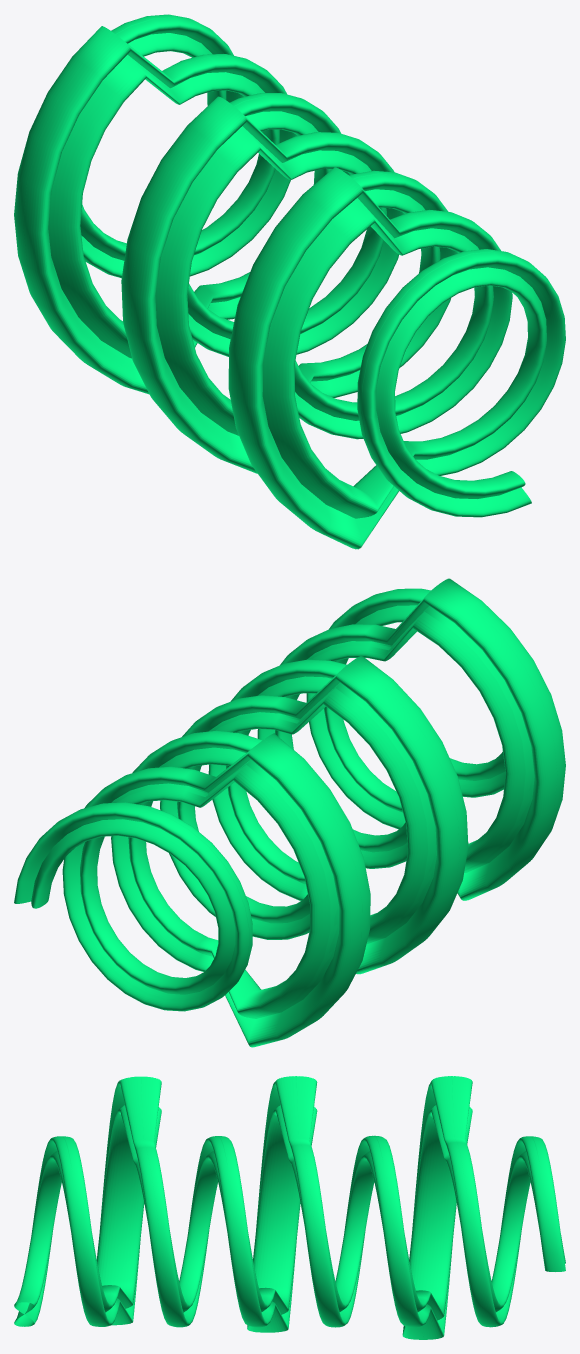
The model's file is dna_expression_system_ar_universal (1).glb.
The picture shows the model from 3 angles, top to bottom: view 1: azimuth 30°, elevation 25°; view 2: azimuth 150°, elevation 25°; view 3: azimuth 270°, elevation 25°; orthographic projection. The views are drawn at different scales.
Visible parts, largest first — view 1: dna_expression_system_ar; view 2: dna_expression_system_ar; view 3: dna_expression_system_ar.
Boxes of the visible parts, box(x1,y1,x2,y2) form: dna_expression_system_ar: box(14, 14, 565, 549); dna_expression_system_ar: box(14, 578, 565, 1047); dna_expression_system_ar: box(14, 1076, 565, 1339).
Bounding box in the file's own units: 0.4556 × 0.5274 × 1.
